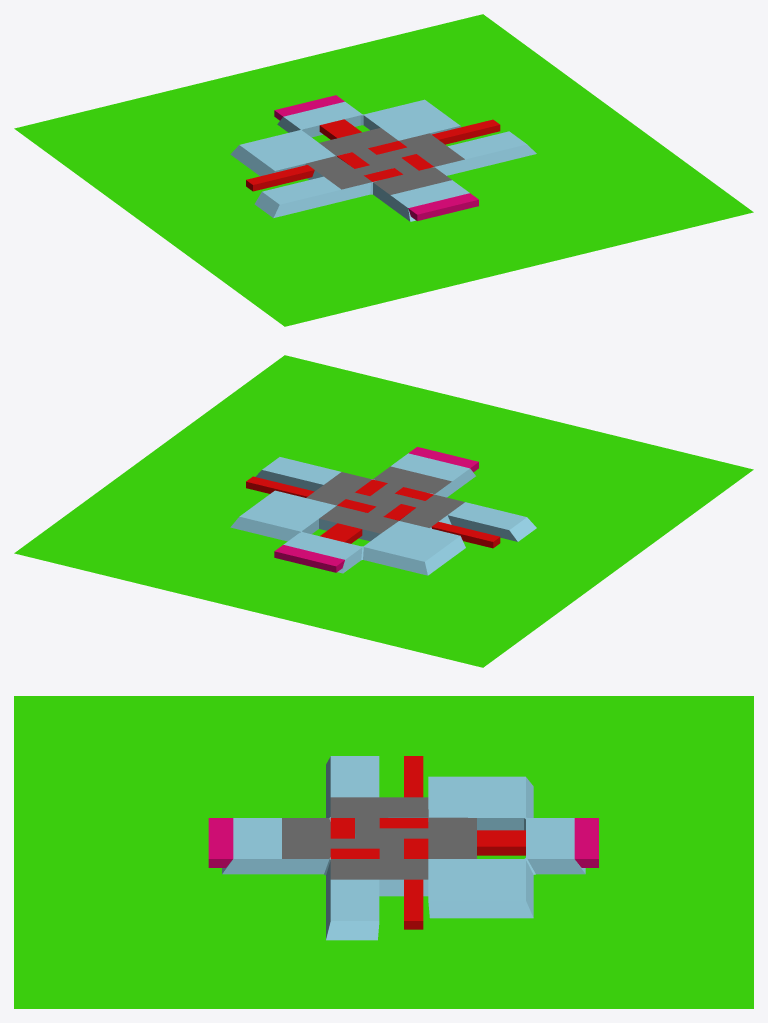
Rendered from N3Sala1_Dressed.fbx.
3 views of the same model, one above another, from view 1: azimuth 30°, elevation 25°; view 2: azimuth 150°, elevation 25°; view 3: azimuth 270°, elevation 25° (orthographic). The views are drawn at different scales.
Visible parts, largest first — view 1: Cesped, Piso, Salida, Entrada; view 2: Cesped, Piso, Entrada, Salida; view 3: Cesped, Piso, Salida, Entrada.
Part boxes in pixels (x1,y1,x2,y2): Cesped: (14, 14, 753, 326); Piso: (230, 99, 536, 221); Salida: (408, 193, 478, 220); Entrada: (274, 95, 344, 120); Cesped: (14, 355, 753, 667); Piso: (230, 453, 536, 575); Entrada: (274, 545, 344, 572); Salida: (408, 447, 478, 472); Cesped: (14, 696, 753, 1008); Piso: (222, 756, 585, 940); Salida: (208, 818, 233, 867); Entrada: (574, 818, 598, 867).
Size of the model in its own units: 7585 by 707 by 7585.
